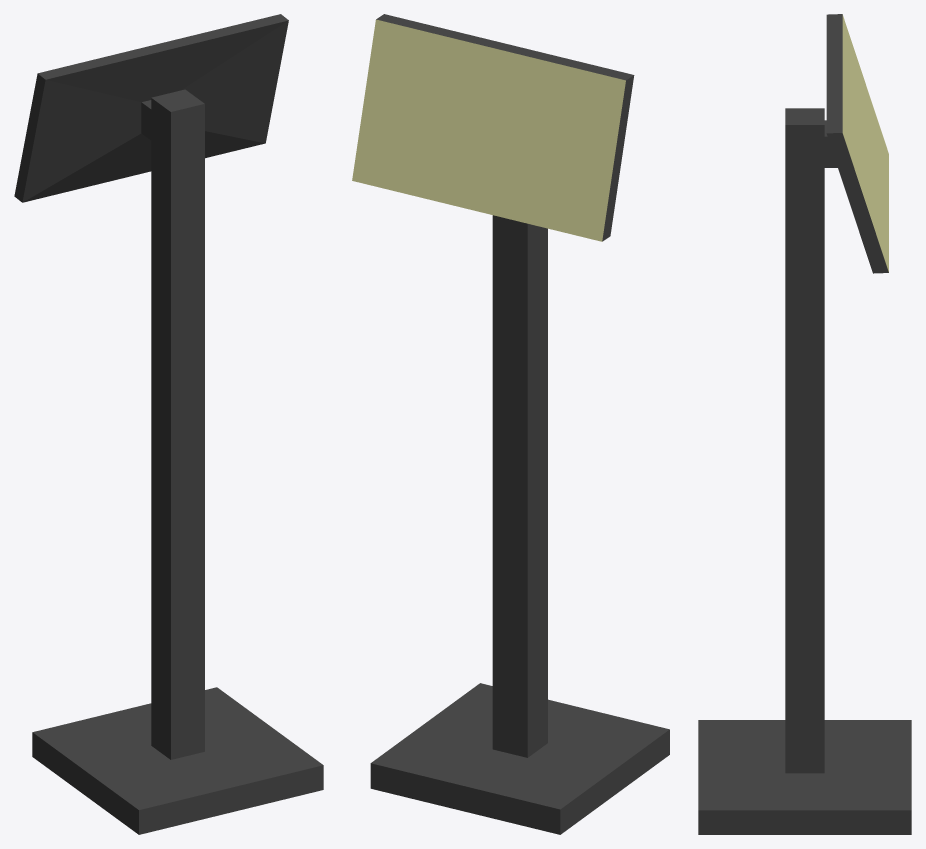
File: cartelPie.fbx
3 views of the same model, side by side, from view 1: azimuth 30°, elevation 25°; view 2: azimuth 150°, elevation 25°; view 3: azimuth 270°, elevation 25° (orthographic). The views are drawn at different scales.
Visible parts, largest first — view 1: Cartel_info_depie; view 2: Cartel_info_depie; view 3: Cartel_info_depie.
Boxes of the visible parts, bbox=[...] form: Cartel_info_depie: bbox=[14, 14, 323, 834]; Cartel_info_depie: bbox=[352, 14, 669, 834]; Cartel_info_depie: bbox=[698, 14, 911, 834].
Bounding box in the file's own units: 132 × 371 × 100.
